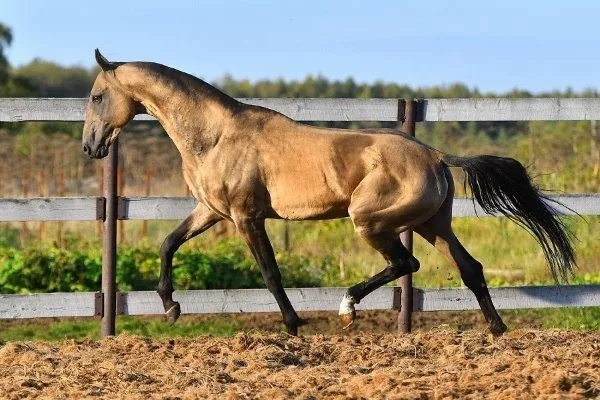horse: (78, 44, 574, 349)
